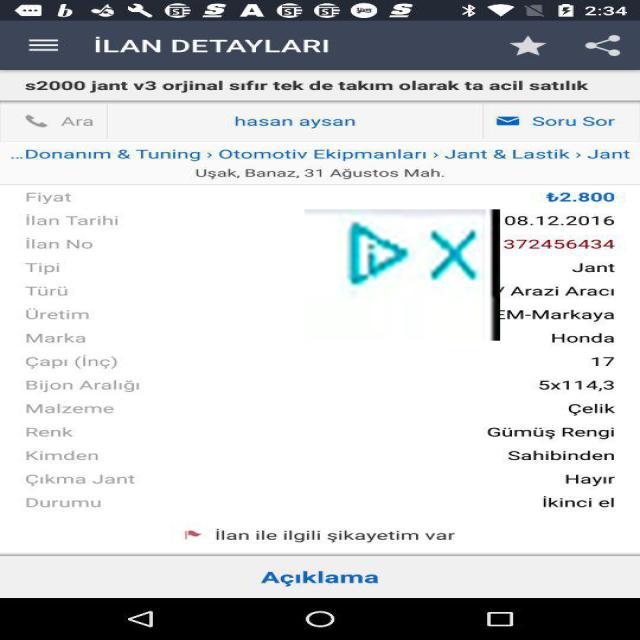sneaking: (305, 209, 500, 341)
